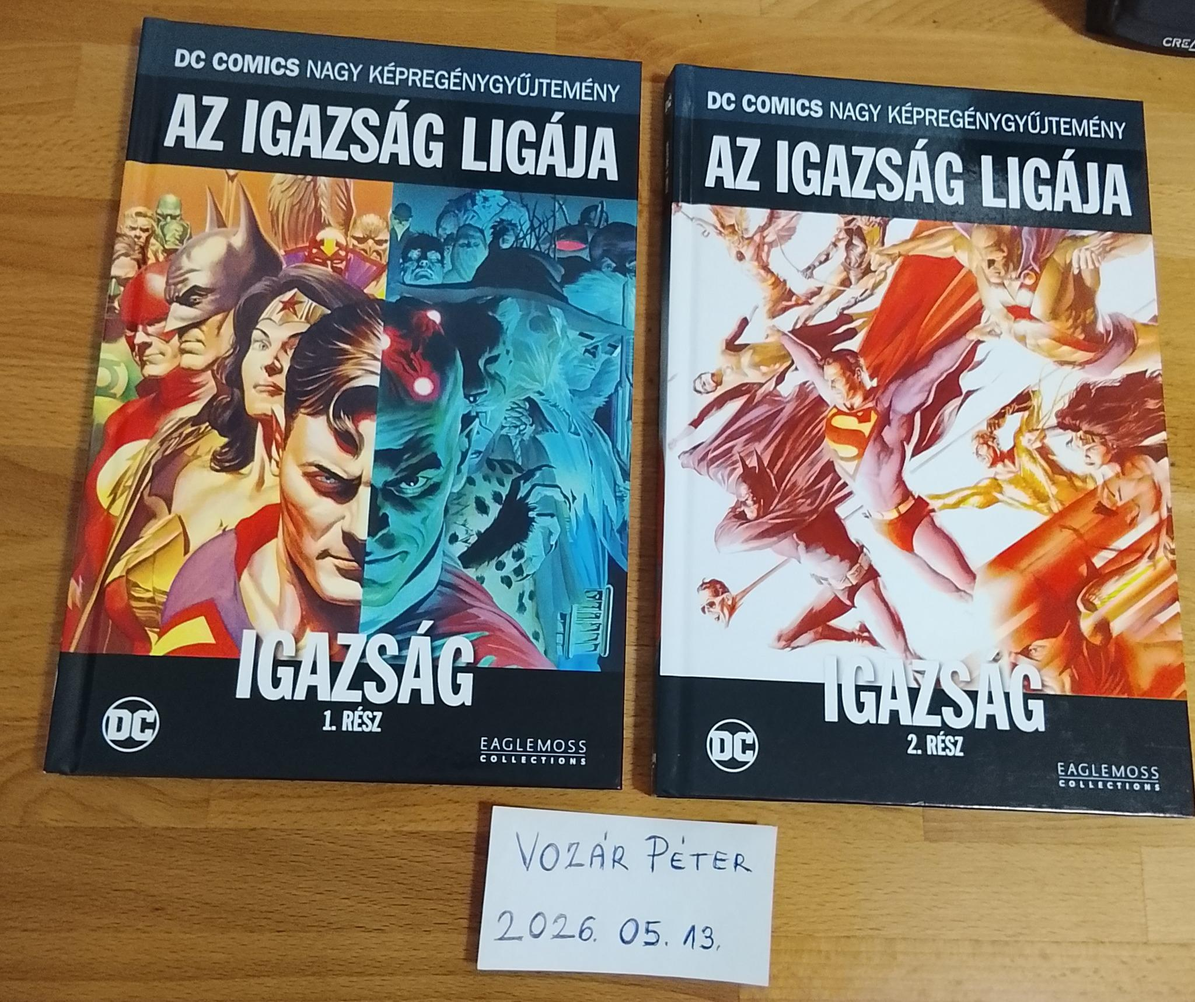comic: (46, 17, 643, 789), (657, 66, 1195, 814)
